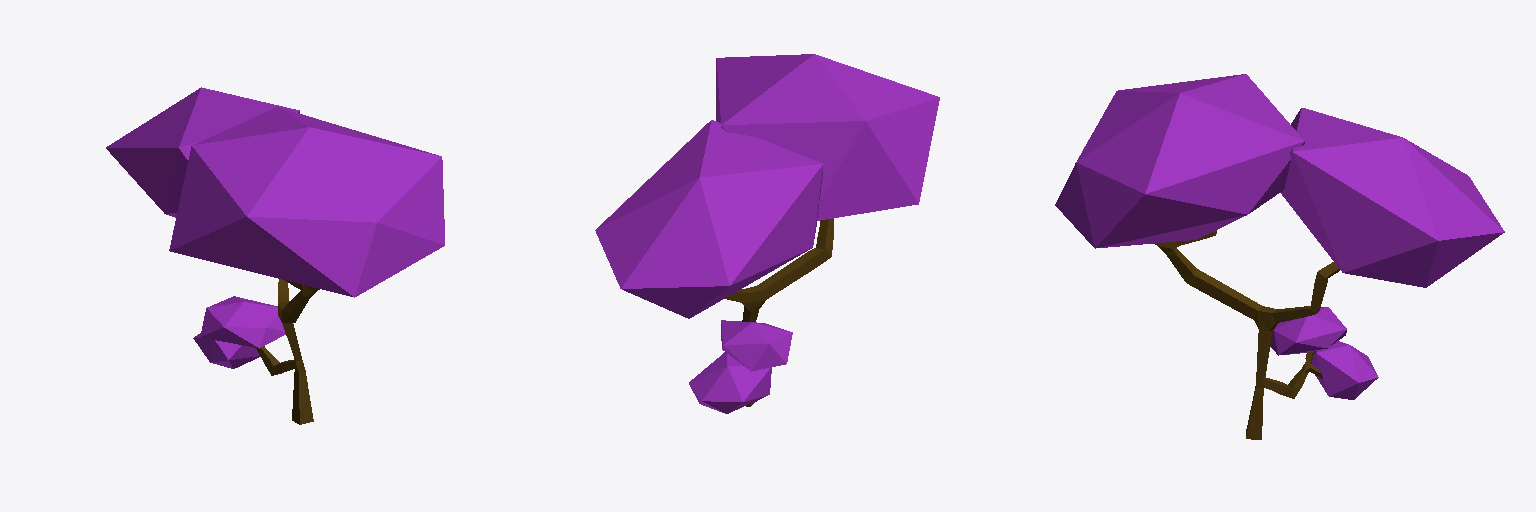
3 views of the same model, side by side, from view 1: azimuth 30°, elevation 25°; view 2: azimuth 150°, elevation 25°; view 3: azimuth 270°, elevation 25° (orthographic).
Visible parts, largest first — view 1: Icosphere.002, Cube; view 2: Icosphere.002, Cube; view 3: Icosphere.002, Cube.
Part boxes in pixels (x1,y1,x2,y2): Icosphere.002: (106, 87, 444, 368); Cube: (256, 279, 319, 424); Icosphere.002: (595, 54, 939, 413); Cube: (725, 218, 833, 406); Icosphere.002: (1055, 74, 1504, 399); Cube: (1154, 230, 1339, 439).
Bounding box in the file's own units: 2.2 × 2.91 × 3.61.
Materials: 2 (1 with a texture image).